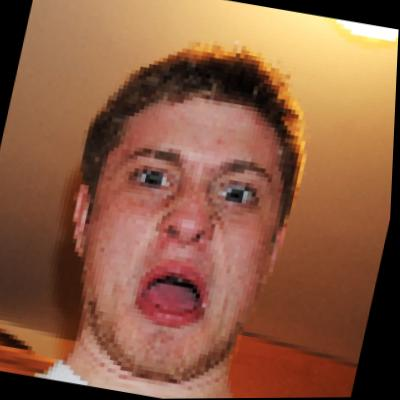surprise: (58, 74, 310, 380)
